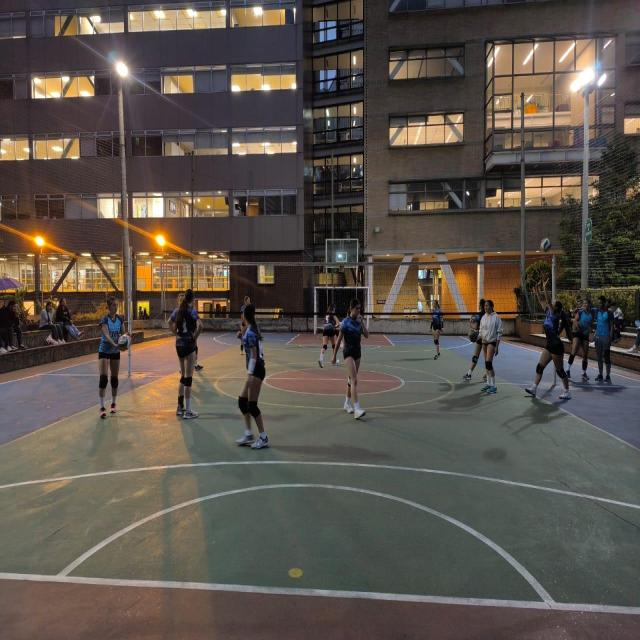volleyball: (118, 334, 131, 350), (540, 239, 551, 252), (468, 329, 478, 342), (470, 314, 478, 322)
